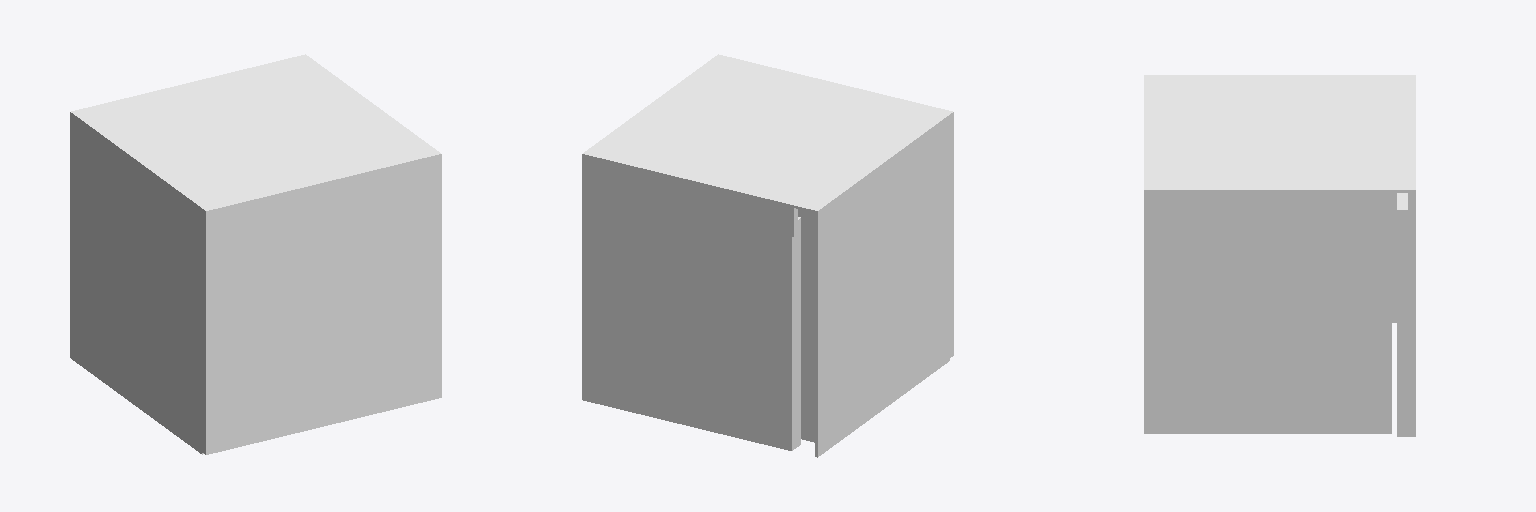
File: masomenos.obj
The picture shows the model from 3 angles: view 1: azimuth 30°, elevation 25°; view 2: azimuth 150°, elevation 25°; view 3: azimuth 270°, elevation 25°; orthographic projection.
Parts seen in each view (by area): view 1: object 1; view 2: object 1; view 3: object 1.
Boxes of the visible parts, <box> form: object 1: <box>70,54,441,454</box>; object 1: <box>582,54,953,457</box>; object 1: <box>1144,75,1415,436</box>.
Size of the model in its own units: 10 by 10 by 10.